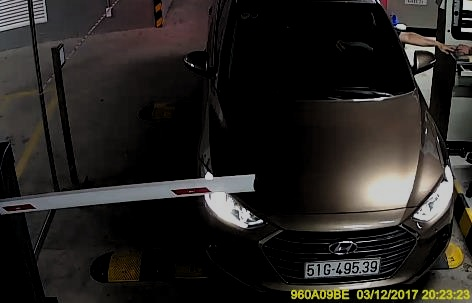plate: (304, 258, 381, 276)
